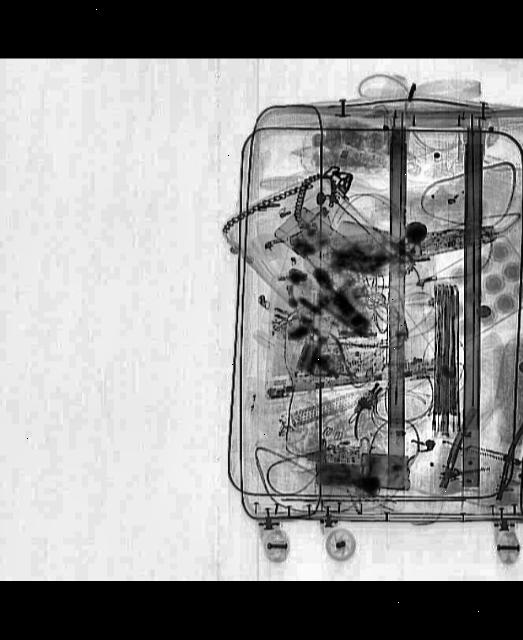Pliers: (296, 331, 370, 396)
